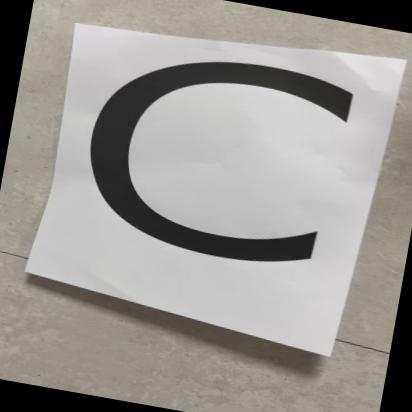seat: (0, 0, 412, 380)
